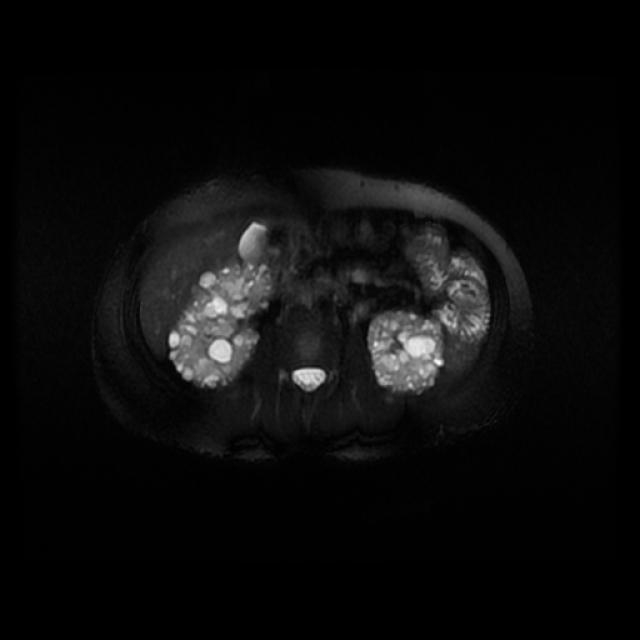sag: (167, 260, 273, 387)
sol: (371, 310, 442, 395)
